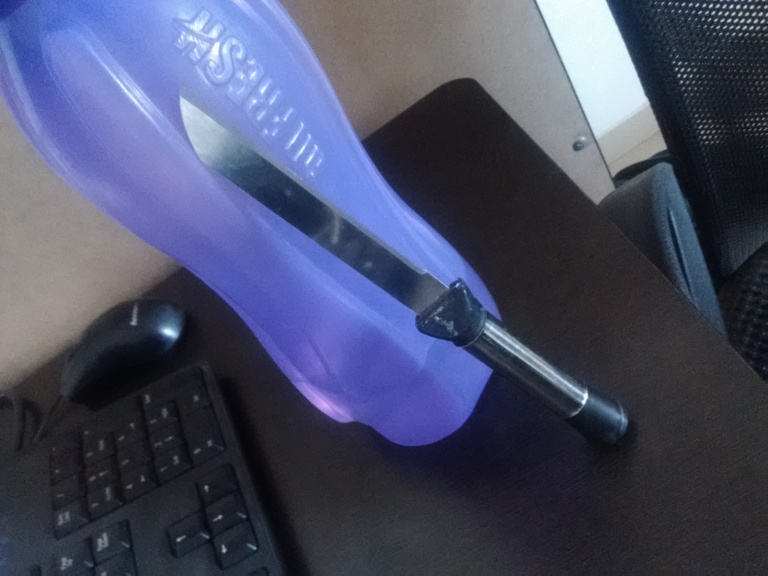knife: (176, 90, 629, 448)
